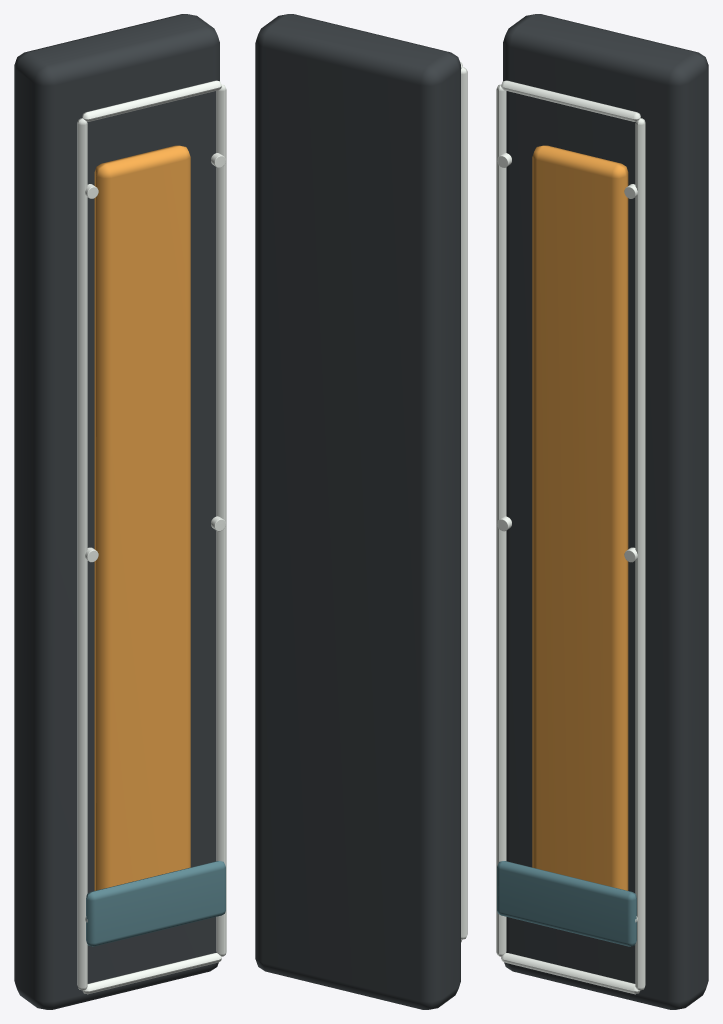
Rendered from hp_switch_state_light_amber.glb.
3 renders of one model, left to right at view 1: azimuth 30°, elevation 25°; view 2: azimuth 150°, elevation 25°; view 3: azimuth 330°, elevation 25°, orthographic.
Visible parts, largest first — view 1: switch_state_light_amber_back_rail, switch_state_light_amber_light_strip, switch_state_light_amber_light_trim_trim_left, switch_state_light_amber_light_trim_trim_right, switch_state_light_amber_state_light_back_color_art_color_bl, switch_state_light_amber_light_trim_trim_top, switch_state_light_amber_light_trim_trim_bottom; view 2: switch_state_light_amber_back_rail, switch_state_light_amber_light_trim_trim_left; view 3: switch_state_light_amber_back_rail, switch_state_light_amber_light_strip, switch_state_light_amber_light_trim_trim_right, switch_state_light_amber_light_trim_trim_left, switch_state_light_amber_state_light_back_color_art_color_bl, switch_state_light_amber_light_trim_trim_top, switch_state_light_amber_light_trim_trim_bottom.
Part boxes in pixels (x1,y1,x2,y2): switch_state_light_amber_back_rail: (14, 14, 219, 1009); switch_state_light_amber_light_strip: (94, 145, 190, 890); switch_state_light_amber_light_trim_trim_left: (77, 118, 87, 990); switch_state_light_amber_light_trim_trim_right: (216, 84, 226, 956); switch_state_light_amber_state_light_back_color_art_color_bl: (86, 861, 225, 946); switch_state_light_amber_light_trim_trim_top: (82, 80, 221, 121); switch_state_light_amber_light_trim_trim_bottom: (82, 953, 221, 994); switch_state_light_amber_back_rail: (255, 14, 460, 1009); switch_state_light_amber_light_trim_trim_left: (461, 67, 467, 939); switch_state_light_amber_back_rail: (503, 14, 708, 1009); switch_state_light_amber_light_strip: (532, 145, 628, 890); switch_state_light_amber_light_trim_trim_right: (635, 118, 645, 990); switch_state_light_amber_light_trim_trim_left: (496, 84, 506, 956); switch_state_light_amber_state_light_back_color_art_color_bl: (497, 861, 636, 946); switch_state_light_amber_light_trim_trim_top: (501, 80, 640, 121); switch_state_light_amber_light_trim_trim_bottom: (501, 953, 640, 994).
Bounding box in the file's own units: 0.16 × 0.78 × 0.088.
